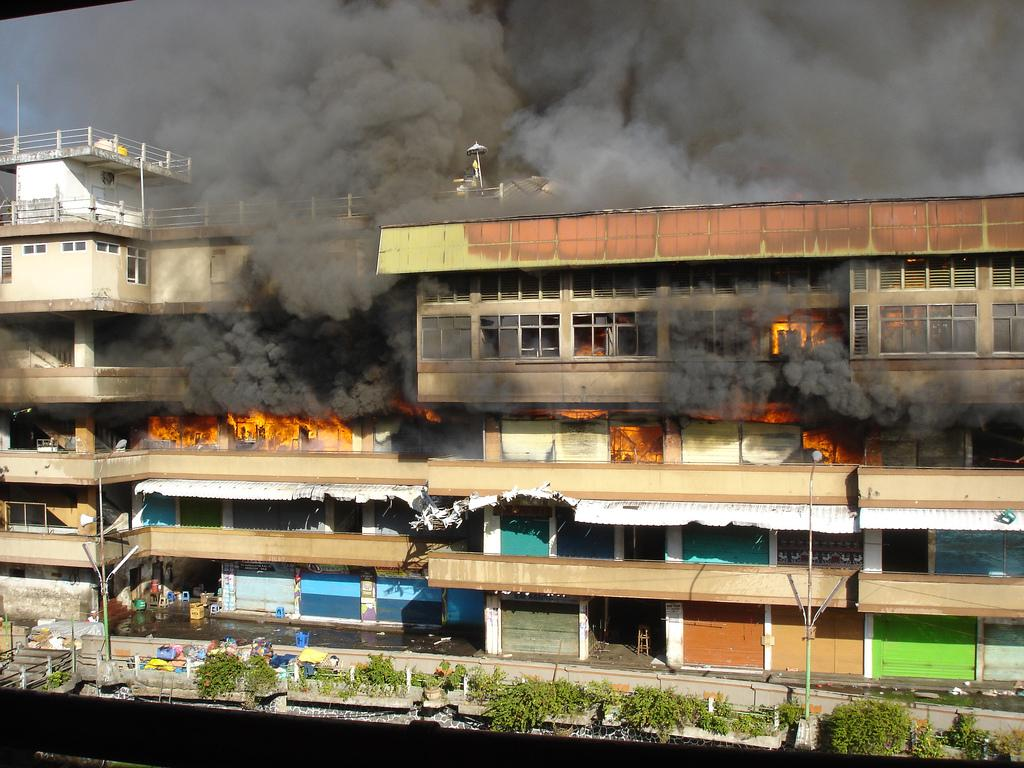fire: (140, 408, 356, 458), (614, 406, 668, 476), (796, 426, 850, 468), (774, 314, 828, 346)
smoke: (110, 12, 982, 164)
